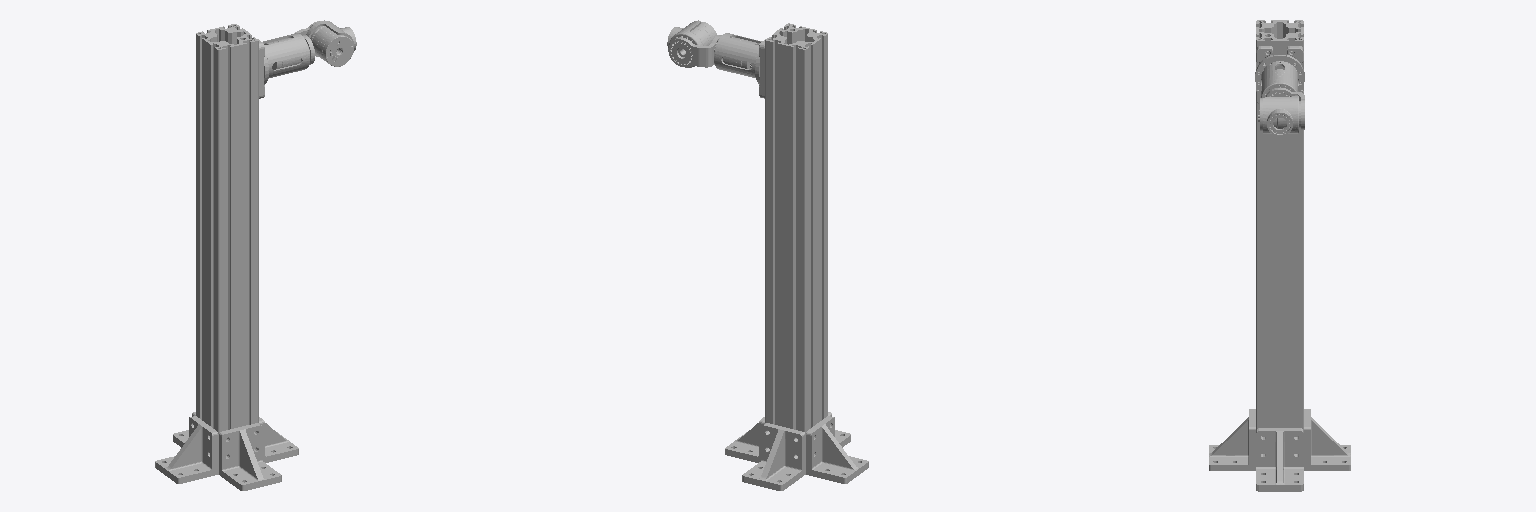
URDF robot description (7dof_sw):
<?xml version="1.0" encoding="utf-8"?>
<!-- This URDF was automatically created by SolidWorks to URDF Exporter! Originally created by [author] ([email redacted]) 
     Commit Version: 1.6.0-4-g7f85cfe  Build Version: 1.6.7995.38578
     For more information, please see http://wiki.ros.org/sw_urdf_exporter -->
<robot
  name="7dof_sw">
  <link
    name="base_link">
    <inertial>
      <origin
        xyz="-0.066967 0.00044618 -0.48889"
        rpy="0 0 0" />
      <mass
        value="17.13" />
      <inertia
        ixx="1.0729"
        ixy="-0.00019528"
        ixz="-1.5219E-06"
        iyy="1.0726"
        iyz="5.6588E-08"
        izz="0.032317" />
    </inertial>
    <visual>
      <origin
        xyz="0 0 0"
        rpy="0 0 0" />
      <geometry>
        <mesh
          filename="package://7dof_sw/meshes/base_link.STL" />
      </geometry>
      <material
        name="">
        <color
          rgba="0.75294 0.75294 0.75294 1" />
      </material>
    </visual>
    <collision>
      <origin
        xyz="0 0 0"
        rpy="0 0 0" />
      <geometry>
        <mesh
          filename="package://7dof_sw/meshes/base_link.STL" />
      </geometry>
    </collision>
  </link>
  <link
    name="Link1">
    <inertial>
      <origin
        xyz="0.020119 0.028992 0.0023317"
        rpy="0 0 0" />
      <mass
        value="0.46486" />
      <inertia
        ixx="0.0004113"
        ixy="-0.00019677"
        ixz="-7.7309E-06"
        iyy="0.00050675"
        iyz="-6.0618E-06"
        izz="0.0006608" />
    </inertial>
    <visual>
      <origin
        xyz="0 0 0"
        rpy="0 0 0" />
      <geometry>
        <mesh
          filename="package://7dof_sw/meshes/Link1.STL" />
      </geometry>
      <material
        name="">
        <color
          rgba="0.75294 0.75294 0.75294 1" />
      </material>
    </visual>
    <collision>
      <origin
        xyz="0 0 0"
        rpy="0 0 0" />
      <geometry>
        <mesh
          filename="package://7dof_sw/meshes/Link1.STL" />
      </geometry>
    </collision>
  </link>
  <joint
    name="j1"
    type="revolute">
    <origin
      xyz="0.12443 0.0018162 -0.0011916"
      rpy="-0.03927 0 0" />
    <parent
      link="base_link" />
    <child
      link="Link1" />
    <axis
      xyz="-1 0 0" />
    <limit
      lower="-2.618"
      upper="2.618"
      effort="66"
      velocity="3.5" />
  </joint>
  <link
    name="Link2">
    <inertial>
      <origin
        xyz="0.0061277 0.0033593 -2.3028E-05"
        rpy="0 0 0" />
      <mass
        value="0.47828" />
      <inertia
        ixx="0.00048747"
        ixy="4.2111E-05"
        ixz="-7.0962E-08"
        iyy="0.00039983"
        iyz="-2.7027E-07"
        izz="0.00046821" />
    </inertial>
    <visual>
      <origin
        xyz="0 0 0"
        rpy="0 0 0" />
      <geometry>
        <mesh
          filename="package://7dof_sw/meshes/Link2.STL" />
      </geometry>
      <material
        name="">
        <color
          rgba="0.75294 0.75294 0.75294 1" />
      </material>
    </visual>
    <collision>
      <origin
        xyz="0 0 0"
        rpy="0 0 0" />
      <geometry>
        <mesh
          filename="package://7dof_sw/meshes/Link2.STL" />
      </geometry>
    </collision>
  </link>
  <joint
    name="j2"
    type="revolute">
    <origin
      xyz="0.05607 -0.0018616 0.0011194"
      rpy="0.03927 0 0" />
    <parent
      link="Link1" />
    <child
      link="Link2" />
    <axis
      xyz="0 -1 0" />
    <limit
      lower="-1.5708"
      upper="1.5708"
      effort="66"
      velocity="3.5" />
  </joint>
  <link
    name="Link3">
    <inertial>
      <origin
        xyz="0.016029 0.0014407 -0.00029401"
        rpy="0 0 0" />
      <mass
        value="0.68465" />
      <inertia
        ixx="0.00041914"
        ixy="-9.6916E-06"
        ixz="5.9267E-06"
        iyy="0.00057088"
        iyz="-2.3757E-06"
        izz="0.00054948" />
    </inertial>
    <visual>
      <origin
        xyz="0 0 0"
        rpy="0 0 0" />
      <geometry>
        <mesh
          filename="package://7dof_sw/meshes/Link3.STL" />
      </geometry>
      <material
        name="">
        <color
          rgba="0.75294 0.75294 0.75294 1" />
      </material>
    </visual>
    <collision>
      <origin
        xyz="0 0 0"
        rpy="0 0 0" />
      <geometry>
        <mesh
          filename="package://7dof_sw/meshes/Link3.STL" />
      </geometry>
    </collision>
  </link>
  <joint
    name="j3"
    type="revolute">
    <origin
      xyz="0.1496 0 0"
      rpy="0 0 0" />
    <parent
      link="Link2" />
    <child
      link="Link3" />
    <axis
      xyz="1 0 0" />
    <limit
      lower="-2.618"
      upper="2.618"
      effort="29"
      velocity="2.41" />
  </joint>
  <link
    name="Link4">
    <inertial>
      <origin
        xyz="0.080005 0.0070707 -2.2919E-06"
        rpy="0 0 0" />
      <mass
        value="0.35759" />
      <inertia
        ixx="0.00020571"
        ixy="2.7438E-05"
        ixz="7.1512E-07"
        iyy="0.00022192"
        iyz="-1.9884E-08"
        izz="0.00023261" />
    </inertial>
    <visual>
      <origin
        xyz="0 0 0"
        rpy="0 0 0" />
      <geometry>
        <mesh
          filename="package://7dof_sw/meshes/Link4.STL" />
      </geometry>
      <material
        name="">
        <color
          rgba="0.75294 0.75294 0.75294 1" />
      </material>
    </visual>
    <collision>
      <origin
        xyz="0 0 0"
        rpy="0 0 0" />
      <geometry>
        <mesh
          filename="package://7dof_sw/meshes/Link4.STL" />
      </geometry>
    </collision>
  </link>
  <joint
    name="j4"
    type="revolute">
    <origin
      xyz="0.1205 0 0"
      rpy="0 0 0" />
    <parent
      link="Link3" />
    <child
      link="Link4" />
    <axis
      xyz="0 -1 0" />
    <limit
      lower="-2.2689"
      upper="2.2689"
      effort="29"
      velocity="2.41" />
  </joint>
  <link
    name="Link5">
    <inertial>
      <origin
        xyz="-0.13038 -1.4901E-05 -0.0027597"
        rpy="0 0 0" />
      <mass
        value="0.42177" />
      <inertia
        ixx="0.00013625"
        ixy="-4.0094E-08"
        ixz="-5.6229E-06"
        iyy="0.00057903"
        iyz="-1.3391E-09"
        izz="0.00053999" />
    </inertial>
    <visual>
      <origin
        xyz="0 0 0"
        rpy="0 0 0" />
      <geometry>
        <mesh
          filename="package://7dof_sw/meshes/Link5.STL" />
      </geometry>
      <material
        name="">
        <color
          rgba="0.75294 0.75294 0.75294 1" />
      </material>
    </visual>
    <collision>
      <origin
        xyz="0 0 0"
        rpy="0 0 0" />
      <geometry>
        <mesh
          filename="package://7dof_sw/meshes/Link5.STL" />
      </geometry>
    </collision>
  </link>
  <joint
    name="j5"
    type="revolute">
    <origin
      xyz="0.36155 0 0"
      rpy="0 0 0" />
    <parent
      link="Link4" />
    <child
      link="Link5" />
    <axis
      xyz="-1 0 0" />
    <limit
      lower="-1.5708"
      upper="1.5708"
      effort="8.3"
      velocity="4.19" />
  </joint>
</robot>

--- What the picture shows (computed from the rendered views, not written in the file) ---
3 views of the same robot in one strip: view 1: azimuth 30°, elevation 25°; view 2: azimuth 150°, elevation 25°; view 3: azimuth 270°, elevation 25° (orthographic).
Robot: 7dof_sw — 6 links, 5 joints (5 revolute); root link base_link; default pose: every joint at zero.
Links seen in each view (by area): view 1: base_link, Link2; view 2: base_link, Link1, Link2; view 3: base_link, Link2.
Boxes of the visible links, x1=… form: base_link: x1=155, y1=24, x2=309, y2=490; Link2: x1=306, y1=20, x2=356, y2=66; base_link: x1=714, y1=23, x2=868, y2=490; Link1: x1=668, y1=35, x2=721, y2=67; Link2: x1=667, y1=20, x2=716, y2=67; base_link: x1=1209, y1=20, x2=1350, y2=491; Link2: x1=1258, y1=95, x2=1300, y2=135.
Size in the robot's own frame: 0.4535 by 0.3 by 1 metres.
3 mesh visuals loaded from 6 distinct referenced files (3 binary STL); not drawn: 3 (reference not matched to a file when rendering).